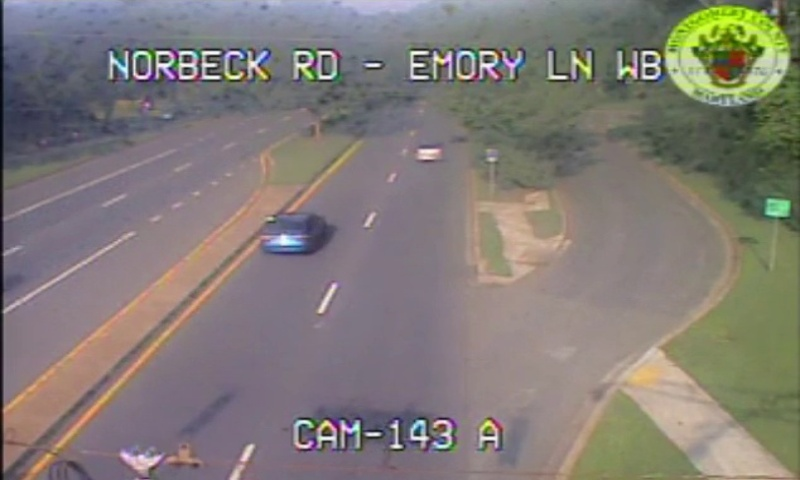car: (259, 212, 323, 253), (415, 144, 445, 160)
